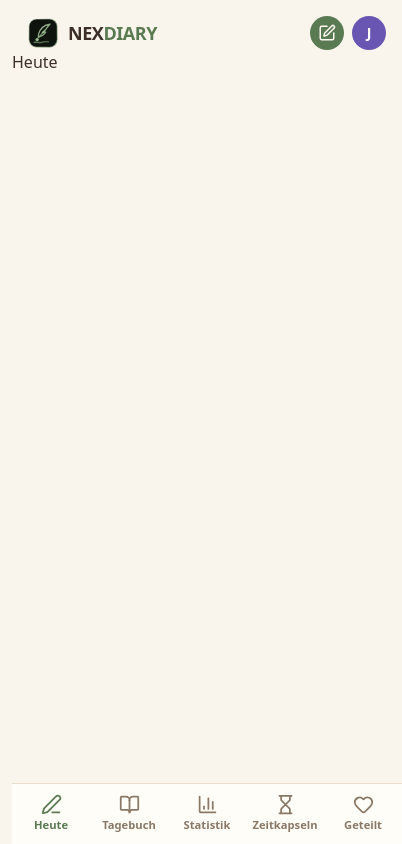
Test: the menu › offers "Fotos" once there is a photo
The width and height of the screenshot is (402, 844).
Expected: the text with class "truncate" next to "Tagebuch" is shown, [34, 817, 68, 834]
Expected: the text "Tagebuch" is shown, [102, 817, 156, 834]
Click the button "J".
click(369, 33)  # box [352, 16, 386, 50]
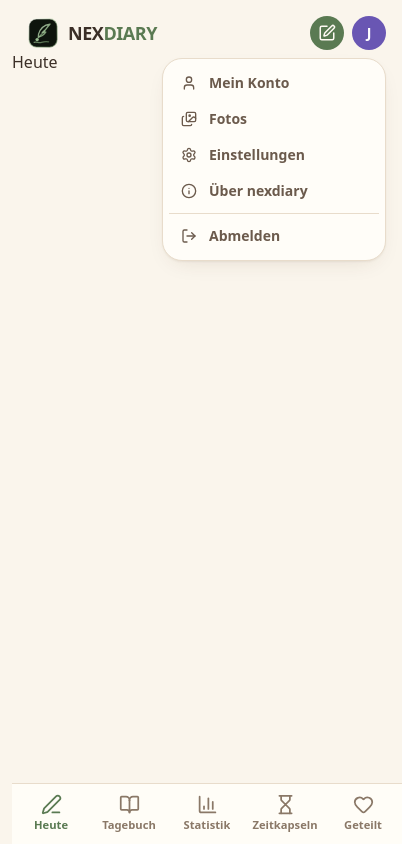
Expected: the link to "/fotos" is shown, [181, 109, 247, 128]
